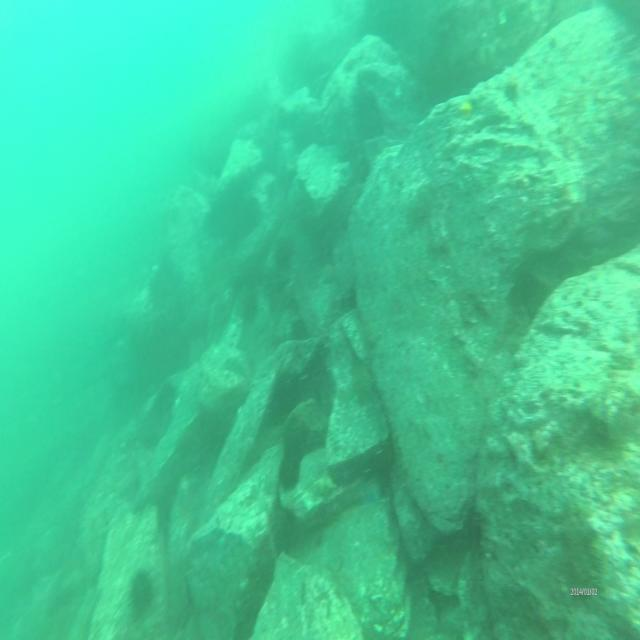echinus: (124, 569, 156, 629), (238, 285, 262, 330), (274, 236, 294, 270)
starfish: (358, 473, 387, 509)
